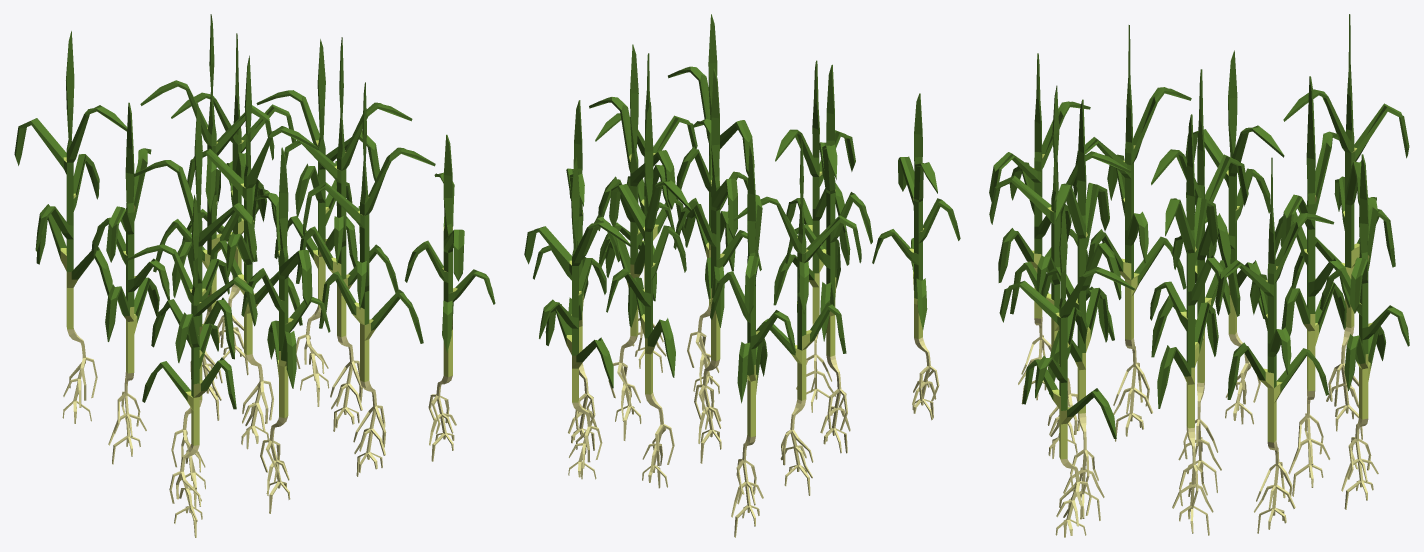
Rendered from mod_WinterWheat_Half.fbx.
3 views of the same model, side by side, from view 1: azimuth 30°, elevation 25°; view 2: azimuth 150°, elevation 25°; view 3: azimuth 270°, elevation 25° (orthographic). The views are drawn at different scales.
Parts seen in each view (by area): view 1: Wheat.020, Wheat.019, Wheat.016, Wheat.022, Wheat.015, Wheat.012, Wheat.018, Wheat.014, Wheat.017, Wheat.023, Wheat.013, Wheat.021; view 2: Wheat.013, Wheat.021, Wheat.020, Wheat.012, Wheat.014, Wheat.019, Wheat.018, Wheat.022, Wheat.015, Wheat.016, Wheat.023, Wheat.017; view 3: Wheat.014, Wheat.013, Wheat.017, Wheat.016, Wheat.018, Wheat.023, Wheat.021, Wheat.020, Wheat.012, Wheat.019, Wheat.015, Wheat.022.
Part boxes in pixels (x1,y1,x2,y2): Wheat.020: [14, 31, 127, 423]; Wheat.019: [91, 102, 169, 464]; Wheat.016: [303, 82, 435, 476]; Wheat.022: [125, 195, 257, 537]; Wheat.015: [241, 147, 330, 513]; Wheat.012: [187, 55, 318, 449]; Wheat.018: [133, 102, 256, 507]; Wheat.014: [284, 37, 412, 431]; Wheat.017: [256, 39, 379, 406]; Wheat.023: [404, 134, 495, 461]; Wheat.013: [140, 14, 274, 420]; Wheat.021: [171, 33, 295, 375]; Wheat.013: [606, 102, 691, 488]; Wheat.021: [524, 156, 631, 479]; Wheat.020: [710, 144, 795, 537]; Wheat.012: [673, 68, 761, 463]; Wheat.014: [589, 44, 676, 440]; Wheat.019: [733, 137, 861, 495]; Wheat.018: [785, 64, 872, 453]; Wheat.022: [872, 93, 960, 420]; Wheat.015: [773, 60, 855, 415]; Wheat.016: [668, 14, 754, 410]; Wheat.023: [595, 53, 697, 372]; Wheat.017: [533, 100, 620, 450]; Wheat.014: [1150, 114, 1230, 535]; Wheat.013: [1275, 76, 1350, 496]; Wheat.017: [1215, 157, 1334, 533]; Wheat.016: [1041, 99, 1121, 520]; Wheat.018: [1073, 25, 1191, 441]; Wheat.023: [999, 204, 1134, 537]; Wheat.021: [1320, 154, 1409, 509]; Wheat.020: [1283, 14, 1409, 439]; Wheat.012: [1151, 69, 1248, 492]; Wheat.019: [1185, 50, 1284, 424]; Wheat.015: [989, 85, 1131, 458]; Wheat.022: [989, 53, 1090, 404].
Bounding box in the file's own units: 382 × 425 × 385.
